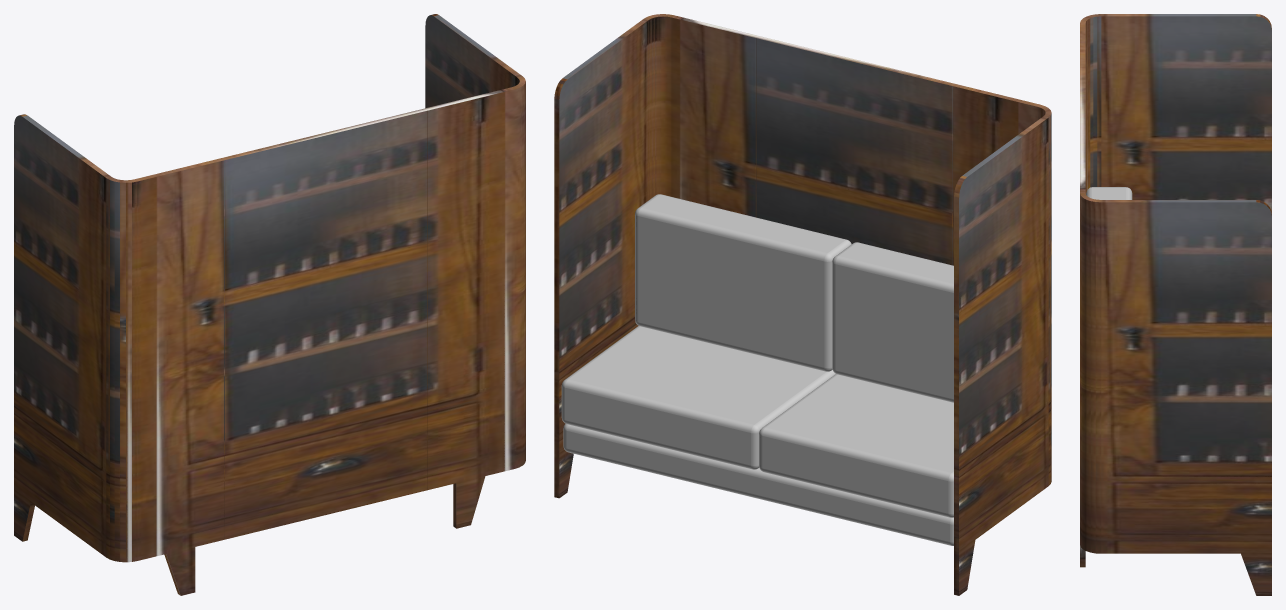
The picture shows the model from 3 angles, left to right: view 1: azimuth 30°, elevation 25°; view 2: azimuth 150°, elevation 25°; view 3: azimuth 270°, elevation 25°; orthographic projection. The views are drawn at different scales.
Visible parts, largest first — view 1: mesh9_mesh9-geometry; view 2: mesh9_mesh9-geometry, mesh3_mesh3-geometry, mesh7_mesh7-geometry, mesh5_mesh5-geometry, mesh11_mesh11-geometry, mesh1_mesh1-geometry; view 3: mesh9_mesh9-geometry, mesh11_mesh11-geometry.
Boxes of the visible parts, x1=… form: mesh9_mesh9-geometry: x1=14, y1=14, x2=525, y2=595; mesh9_mesh9-geometry: x1=554, y1=14, x2=1051, y2=595; mesh3_mesh3-geometry: x1=635, y1=194, x2=851, y2=371; mesh7_mesh7-geometry: x1=561, y1=326, x2=835, y2=469; mesh5_mesh5-geometry: x1=759, y1=374, x2=953, y2=517; mesh11_mesh11-geometry: x1=832, y1=242, x2=953, y2=402; mesh1_mesh1-geometry: x1=563, y1=423, x2=953, y2=545; mesh9_mesh9-geometry: x1=1080, y1=14, x2=1271, y2=595; mesh11_mesh11-geometry: x1=1086, y1=187, x2=1132, y2=199.
Size of the model in its own units: 0.6843 by 0.6671 by 0.2945.
